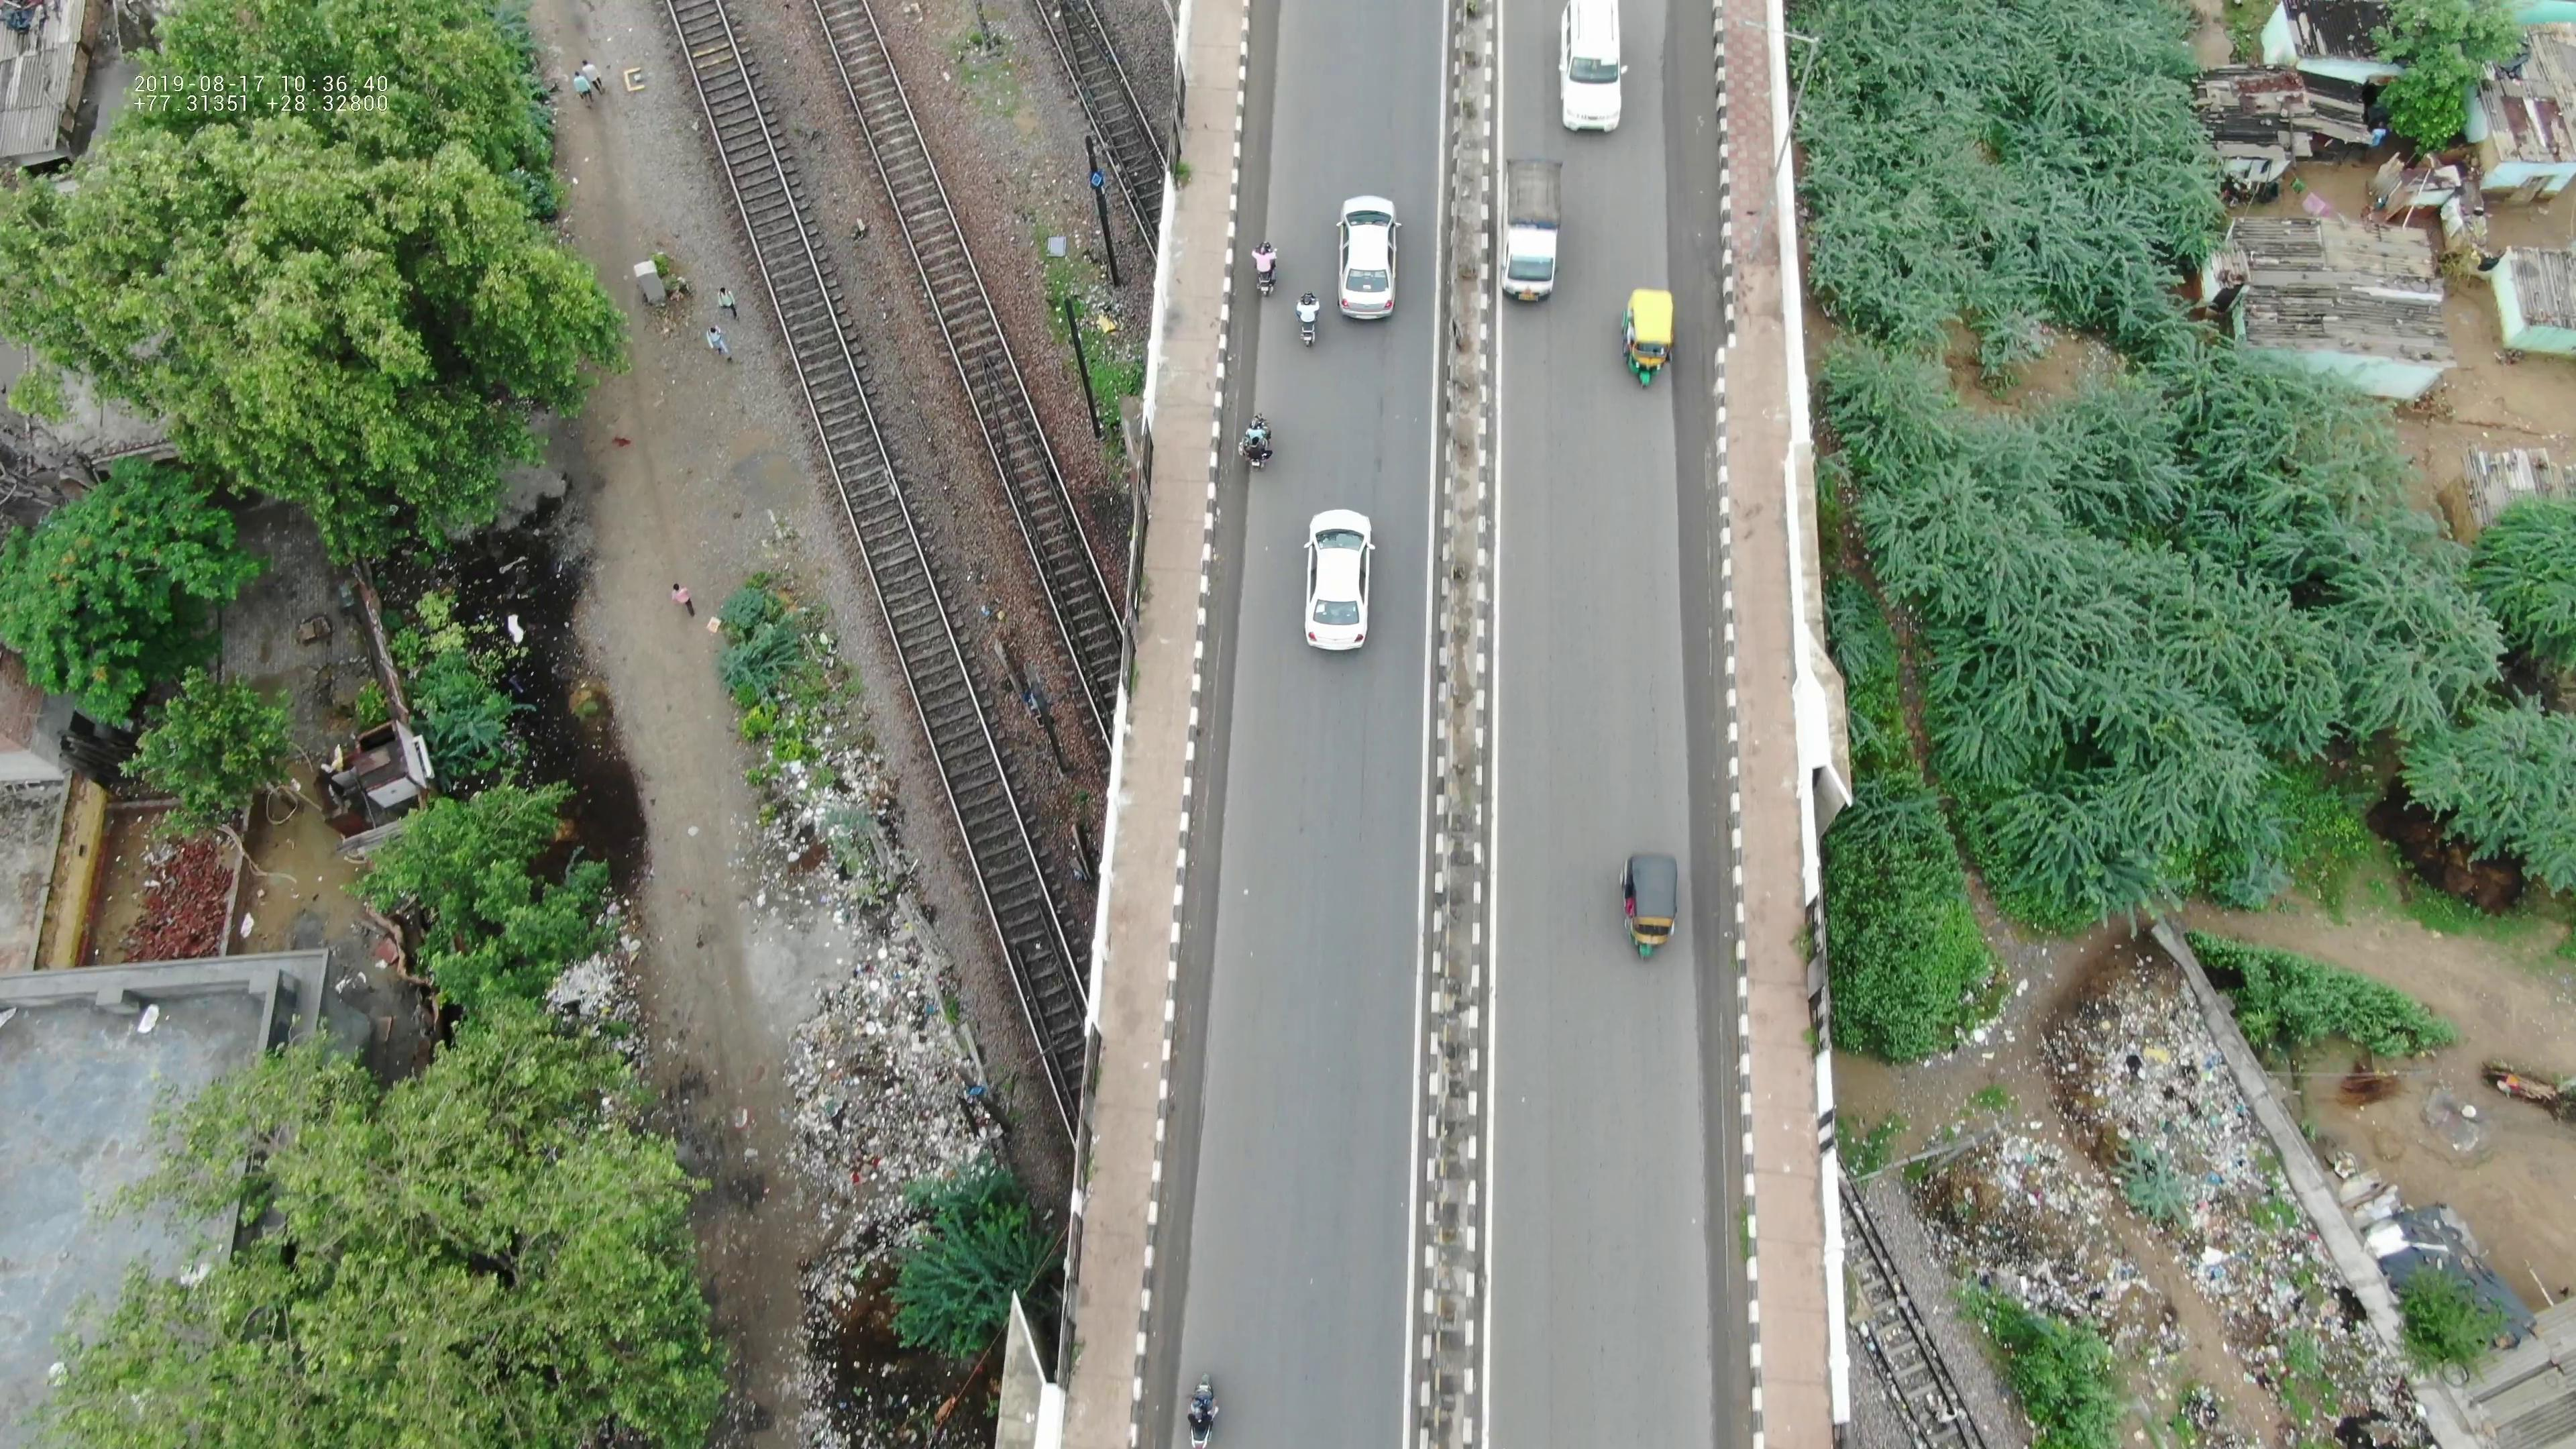Road_side_garbage: (2068, 1005, 2335, 1348), (761, 962, 1001, 1231)
